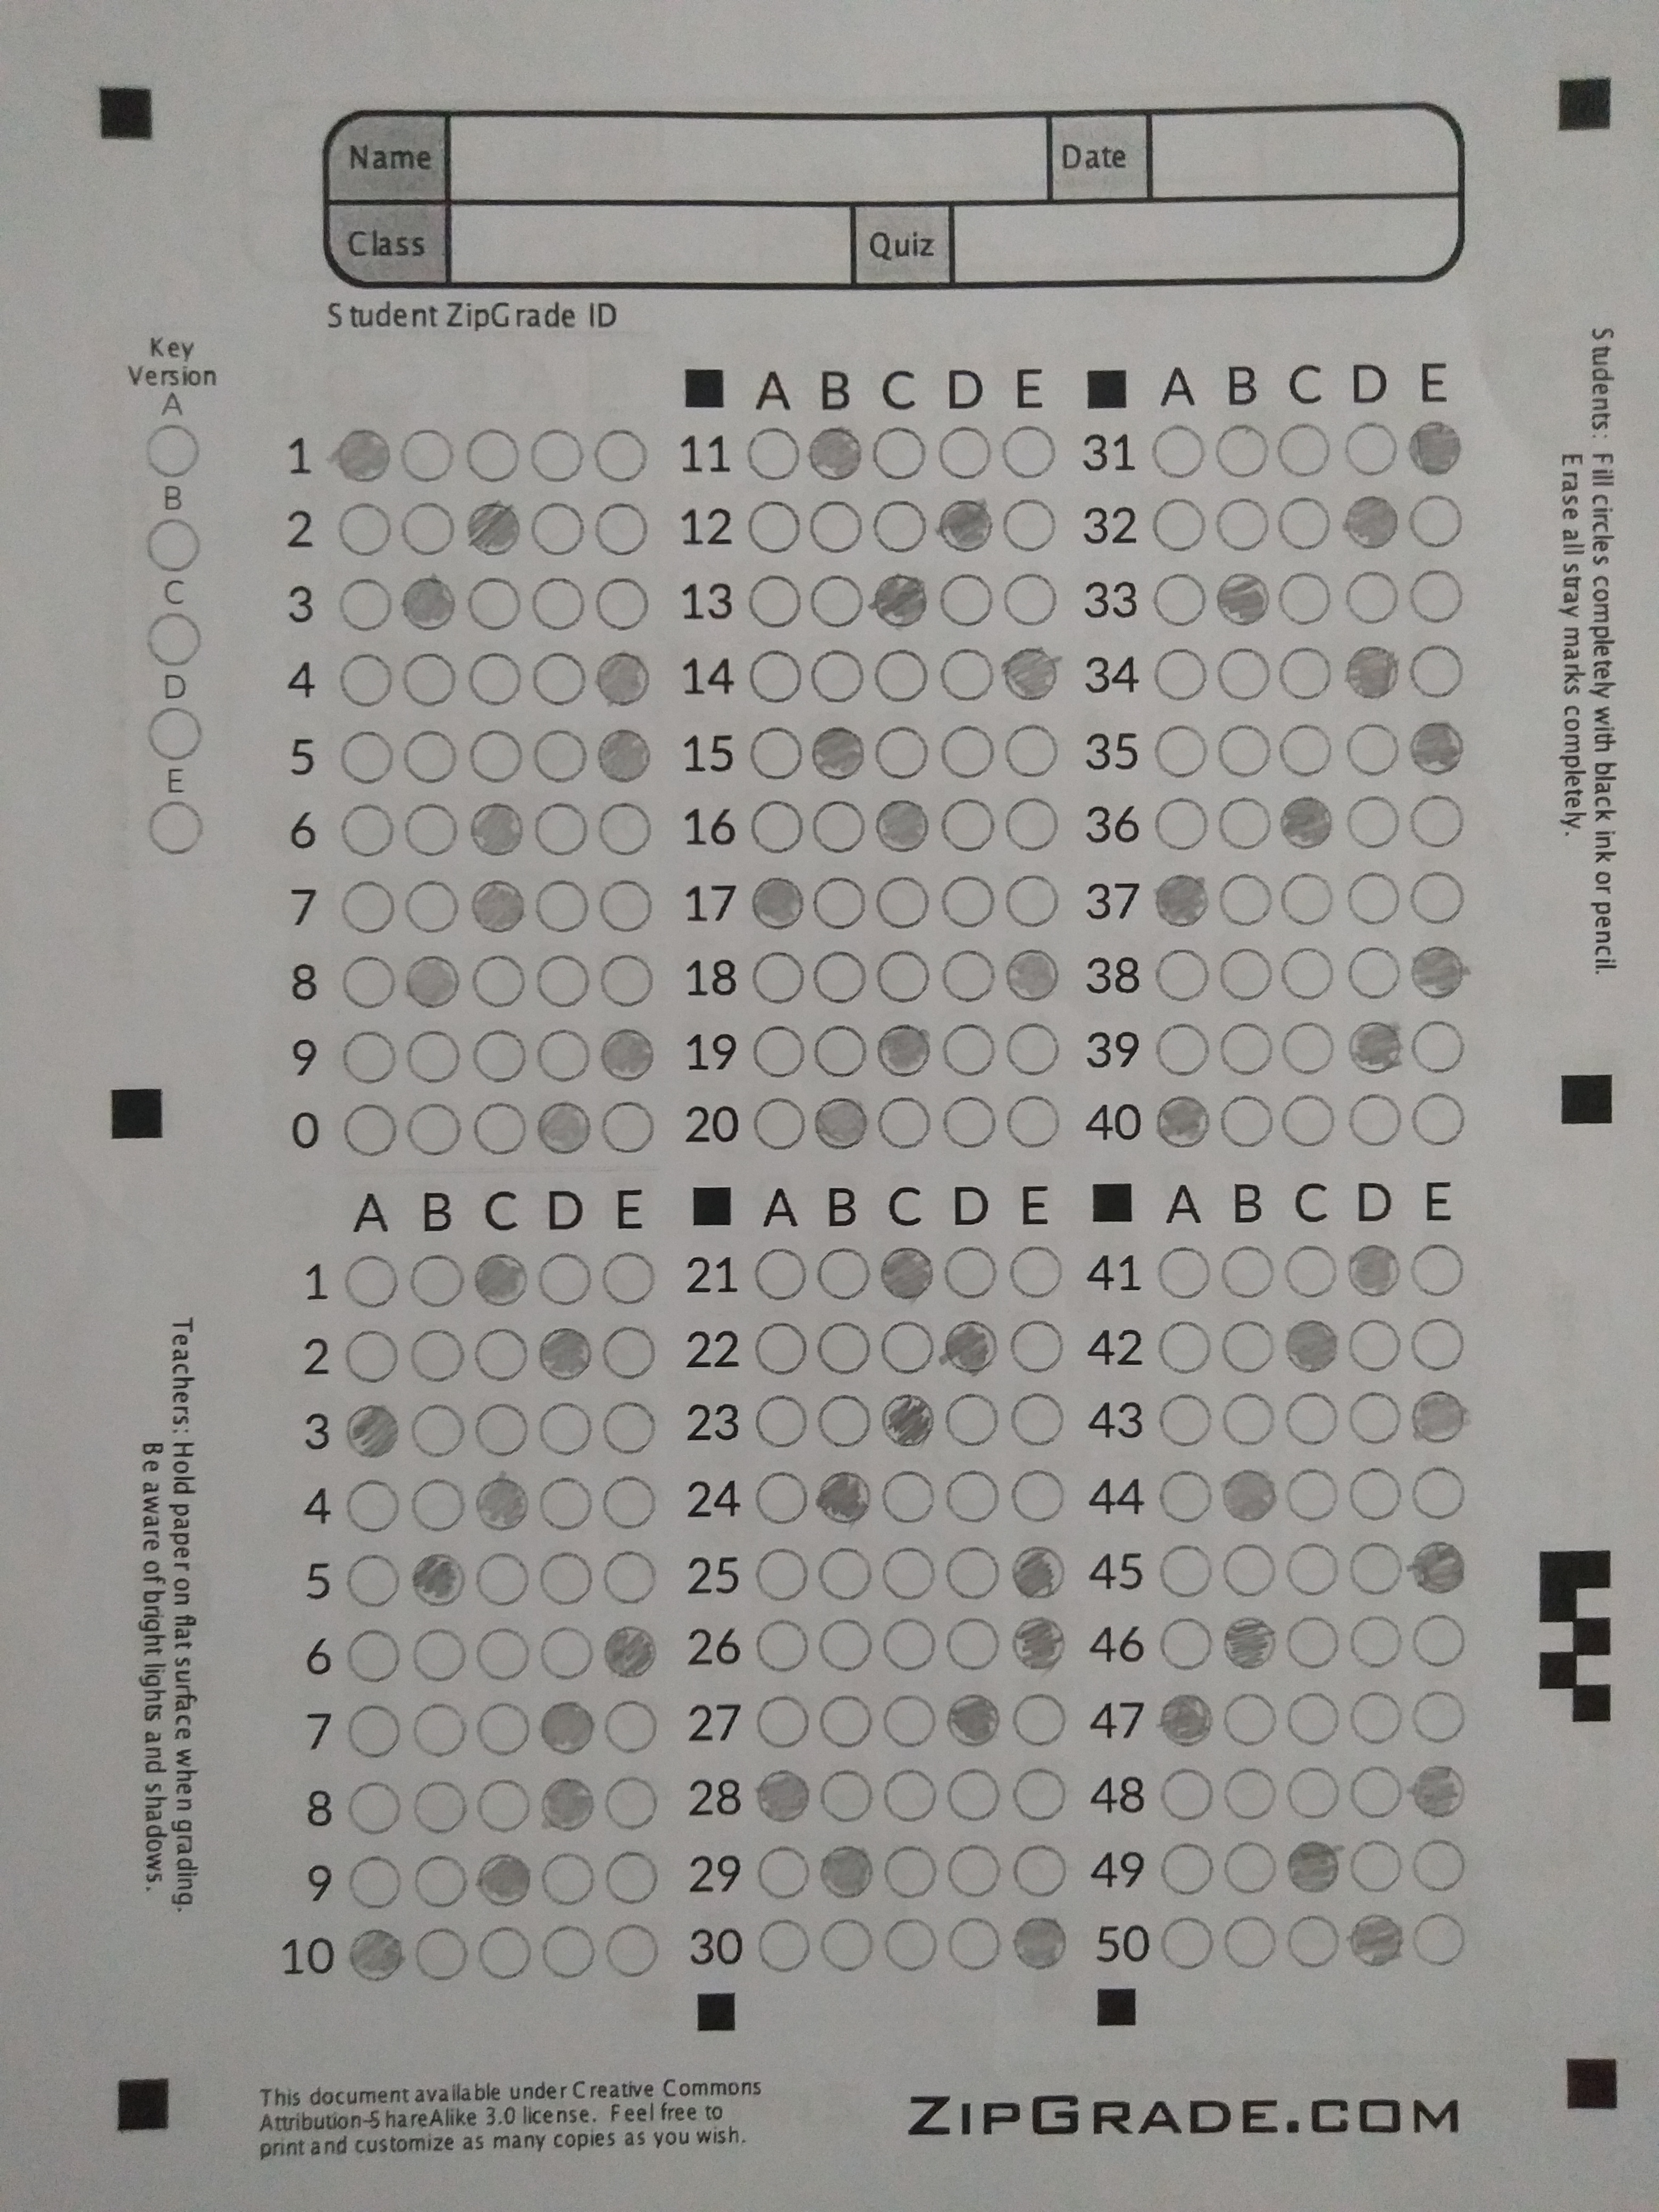not-c: (1000, 719, 1061, 780), (936, 946, 997, 1007), (936, 794, 997, 855), (938, 719, 999, 780), (873, 944, 934, 1005), (871, 873, 932, 934), (871, 644, 932, 705), (594, 801, 655, 862), (532, 799, 592, 860), (401, 874, 462, 935), (336, 953, 397, 1014), (746, 948, 807, 1008), (871, 496, 932, 557), (807, 493, 868, 554), (999, 420, 1060, 481), (868, 421, 929, 482), (934, 568, 995, 629), (401, 648, 462, 709), (465, 648, 526, 709), (465, 573, 526, 634), (814, 1244, 875, 1305), (471, 1324, 532, 1385), (406, 1322, 467, 1383), (342, 1324, 403, 1385), (599, 1249, 660, 1310), (535, 1251, 596, 1312), (406, 1249, 467, 1310), (340, 1251, 401, 1312), (1004, 1092, 1065, 1153), (1002, 1017, 1063, 1078), (939, 1019, 1000, 1080), (873, 1094, 934, 1155), (809, 1022, 870, 1083), (748, 1096, 809, 1157), (748, 1024, 809, 1085), (469, 1099, 530, 1160), (340, 1026, 401, 1087), (1002, 794, 1063, 855), (749, 1320, 810, 1381), (601, 1921, 662, 1982), (605, 1848, 666, 1909), (537, 1474, 598, 1534), (474, 1773, 535, 1834), (472, 1623, 533, 1684), (408, 1623, 469, 1684), (343, 1700, 404, 1761), (343, 1623, 404, 1684), (343, 1474, 404, 1534), (941, 1240, 1002, 1301), (882, 1763, 943, 1824), (817, 1912, 878, 1973), (816, 1691, 877, 1752), (817, 1615, 878, 1676), (817, 1541, 878, 1602), (753, 1691, 814, 1752), (751, 1616, 812, 1677), (751, 1470, 812, 1531), (943, 1388, 1004, 1449), (753, 1390, 814, 1451), (1009, 1315, 1070, 1376), (1154, 1463, 1215, 1524), (941, 1839, 1002, 1900), (1011, 1465, 1072, 1526), (943, 1465, 1004, 1526), (880, 1839, 941, 1900), (1345, 1688, 1406, 1749), (1284, 1684, 1345, 1745), (1222, 1686, 1283, 1747), (1406, 1608, 1467, 1669), (1284, 1609, 1345, 1670), (1222, 1540, 1283, 1601), (1284, 1461, 1345, 1522), (1344, 1313, 1405, 1374), (1157, 1916, 1218, 1977), (1412, 1834, 1473, 1895), (1216, 792, 1277, 853), (1215, 721, 1276, 782), (1215, 641, 1276, 702), (1213, 421, 1274, 482), (1148, 493, 1209, 554), (1148, 421, 1209, 482), (1281, 866, 1342, 927), (1408, 564, 1469, 625), (1405, 489, 1466, 550), (1406, 1017, 1467, 1078), (1345, 942, 1406, 1003), (143, 420, 204, 481), (139, 516, 200, 577), (143, 606, 204, 667), (397, 423, 457, 484), (1000, 570, 1061, 629), (936, 871, 997, 930), (805, 641, 864, 702), (464, 728, 525, 787), (871, 723, 932, 782), (809, 946, 870, 1005), (809, 873, 870, 932), (936, 646, 997, 705), (807, 571, 868, 631), (598, 951, 659, 1010), (533, 949, 594, 1008), (532, 876, 592, 935), (469, 949, 530, 1008), (401, 799, 462, 859), (336, 878, 397, 937), (335, 799, 396, 859), (744, 798, 805, 857), (744, 643, 803, 704), (1002, 493, 1061, 554), (938, 420, 997, 481), (744, 423, 803, 484), (532, 726, 591, 787), (401, 728, 462, 787), (336, 725, 396, 786), (335, 651, 396, 711), (594, 573, 655, 632), (530, 573, 589, 634), (336, 573, 396, 634), (592, 498, 652, 559), (528, 496, 587, 557), (399, 498, 458, 559), (335, 496, 396, 556), (525, 425, 586, 484), (462, 423, 523, 482), (749, 1245, 809, 1306), (599, 1322, 660, 1381), (939, 1092, 1000, 1151), (599, 1097, 659, 1158), (535, 1026, 596, 1085), (469, 1026, 530, 1085), (404, 1099, 465, 1158), (403, 1026, 464, 1085), (340, 1101, 399, 1162), (1004, 873, 1065, 932), (538, 1918, 599, 1977), (476, 1921, 537, 1980), (411, 1925, 472, 1984), (538, 1848, 599, 1907), (599, 1773, 659, 1834), (599, 1695, 660, 1754), (537, 1548, 598, 1608), (599, 1474, 660, 1533), (599, 1399, 660, 1458), (537, 1400, 598, 1460), (472, 1698, 533, 1757), (471, 1552, 532, 1611), (472, 1400, 532, 1461), (410, 1778, 471, 1838), (411, 1698, 471, 1759), (408, 1474, 469, 1533), (343, 1850, 404, 1909), (343, 1777, 404, 1836), (342, 1550, 403, 1609), (410, 1400, 471, 1460), (1006, 1240, 1066, 1299), (880, 1691, 941, 1750), (880, 1613, 939, 1674), (880, 1545, 941, 1604), (878, 1465, 939, 1524), (819, 1764, 878, 1825), (751, 1916, 812, 1975), (753, 1841, 814, 1900), (814, 1390, 875, 1449), (749, 1545, 810, 1604), (877, 1317, 938, 1376), (814, 1318, 875, 1378), (1218, 1388, 1279, 1447), (1220, 1242, 1279, 1303), (1155, 1766, 1216, 1825), (1155, 1615, 1216, 1674), (1155, 1543, 1216, 1602), (1155, 1390, 1216, 1449), (1154, 1244, 1215, 1303), (943, 1911, 1002, 1972), (1009, 1766, 1070, 1825), (945, 1764, 1006, 1824), (1220, 1764, 1281, 1824), (1410, 1686, 1471, 1745), (1349, 1608, 1410, 1667), (1345, 1538, 1406, 1597), (1283, 1540, 1344, 1599), (1408, 1460, 1469, 1519), (1347, 1386, 1406, 1447), (1281, 1386, 1342, 1446), (1408, 1312, 1469, 1371), (1406, 1240, 1467, 1299), (1279, 1240, 1340, 1299), (1284, 1911, 1345, 1970), (1349, 1836, 1410, 1895), (1345, 1766, 1406, 1825), (1284, 1766, 1345, 1825), (1279, 1090, 1340, 1150), (1215, 491, 1274, 552), (1154, 1019, 1215, 1078), (1148, 946, 1209, 1005), (1152, 794, 1213, 853), (1148, 719, 1209, 779), (1152, 644, 1211, 705), (1150, 568, 1211, 627), (1218, 867, 1279, 927), (1344, 794, 1405, 853), (1344, 721, 1405, 780), (1276, 721, 1337, 780), (1406, 639, 1467, 698), (1345, 566, 1405, 627), (1272, 564, 1333, 624), (1277, 495, 1337, 556), (1277, 421, 1338, 481), (1410, 1090, 1471, 1150), (1347, 1092, 1406, 1153), (1281, 1017, 1342, 1076), (1216, 1019, 1277, 1078), (1281, 942, 1342, 1001), (1410, 869, 1471, 928), (145, 702, 206, 761), (143, 799, 204, 859), (810, 794, 870, 853), (598, 876, 657, 935), (748, 725, 807, 784), (744, 571, 803, 631), (744, 498, 803, 557), (528, 651, 587, 711), (591, 425, 650, 484), (537, 1625, 596, 1684), (599, 1548, 659, 1608), (411, 1850, 471, 1909), (1220, 1317, 1279, 1376), (1157, 1839, 1216, 1898), (1009, 1838, 1068, 1897), (1007, 1691, 1066, 1750), (946, 1613, 1006, 1672), (943, 1541, 1002, 1601), (882, 1912, 941, 1972), (1347, 1463, 1406, 1522), (1412, 1912, 1471, 1972), (1222, 1914, 1281, 1973), (1222, 1836, 1281, 1895), (1408, 792, 1467, 852), (1277, 646, 1337, 705), (1345, 420, 1405, 479), (1216, 1089, 1276, 1148), (1345, 867, 1405, 927), (1216, 942, 1276, 1001), (1007, 1390, 1066, 1447), (1155, 1317, 1215, 1374)
taken-c: (399, 573, 458, 632), (873, 1021, 932, 1080), (1011, 1613, 1070, 1672), (1011, 1912, 1070, 1972), (1344, 1019, 1405, 1076), (1408, 416, 1464, 479), (809, 425, 866, 484), (1345, 643, 1403, 702), (1347, 1912, 1406, 1970), (1222, 1467, 1279, 1526), (1410, 1388, 1469, 1446), (1345, 1240, 1403, 1299), (943, 1689, 1000, 1749), (537, 1702, 596, 1759), (472, 1475, 532, 1533), (469, 874, 526, 932), (1284, 1839, 1342, 1897), (336, 428, 396, 484), (871, 573, 931, 629), (749, 874, 809, 930), (1408, 944, 1467, 1000), (1283, 1317, 1342, 1372), (477, 1850, 533, 1909), (471, 1252, 532, 1306), (596, 726, 652, 784), (469, 801, 525, 859), (599, 1026, 655, 1083), (810, 723, 866, 780), (1154, 874, 1211, 930), (1159, 1691, 1215, 1749), (1220, 1615, 1276, 1672), (1412, 1540, 1467, 1597), (943, 1317, 999, 1374), (817, 1467, 875, 1522), (1012, 1545, 1068, 1602), (755, 1768, 810, 1825), (349, 1928, 406, 1984), (467, 500, 521, 559), (1216, 570, 1270, 629), (1408, 721, 1467, 775), (877, 1247, 936, 1301), (882, 1390, 936, 1449), (411, 1548, 465, 1608), (343, 1404, 403, 1458), (404, 953, 460, 1008), (1279, 794, 1335, 850), (817, 1843, 873, 1898), (603, 1623, 659, 1679), (592, 653, 650, 707), (938, 498, 995, 552), (873, 799, 931, 853), (1342, 495, 1399, 549), (1155, 1096, 1213, 1150), (537, 1327, 596, 1379), (537, 1101, 592, 1155), (1002, 646, 1058, 700), (1412, 1764, 1467, 1818), (540, 1778, 596, 1832), (814, 1097, 870, 1150), (1006, 949, 1060, 1001)
